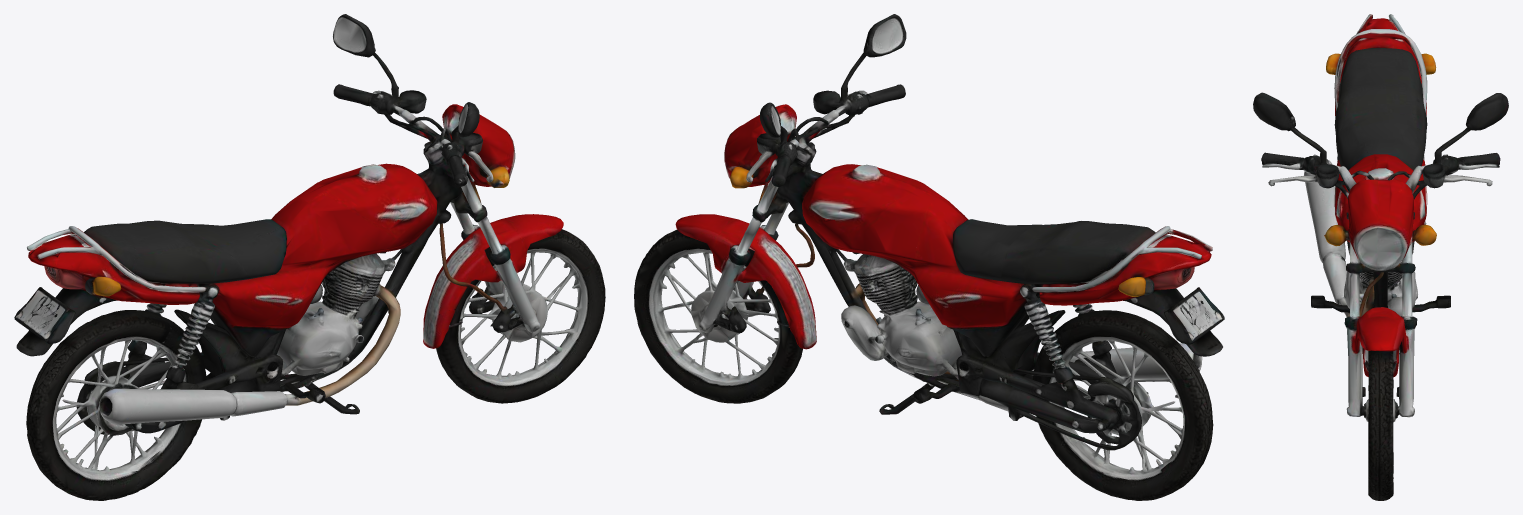
File: moto-perso.glb
The picture shows the model from 3 angles, left to right: view 1: azimuth 30°, elevation 25°; view 2: azimuth 150°, elevation 25°; view 3: azimuth 270°, elevation 25°; orthographic projection. The views are drawn at different scales.
Visible parts, largest first — view 1: tripo_node_be6df491-8222-466b-a037-93a4c237a1e6; view 2: tripo_node_be6df491-8222-466b-a037-93a4c237a1e6; view 3: tripo_node_be6df491-8222-466b-a037-93a4c237a1e6.
Part boxes in pixels (bbox=[...]): tripo_node_be6df491-8222-466b-a037-93a4c237a1e6: bbox=[14, 14, 605, 500]; tripo_node_be6df491-8222-466b-a037-93a4c237a1e6: bbox=[634, 14, 1224, 500]; tripo_node_be6df491-8222-466b-a037-93a4c237a1e6: bbox=[1253, 14, 1508, 500].
Bounding box in the file's own units: 0.9995 × 0.6001 × 0.401.
1 material, 1 textured.
